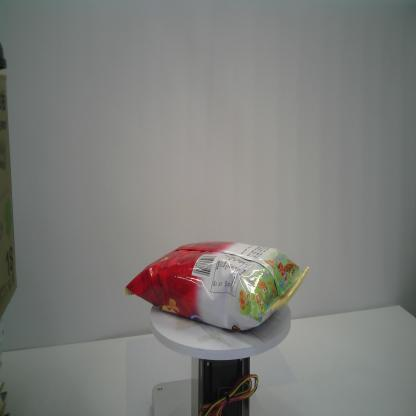Puffed Food: (125, 240, 310, 331)
